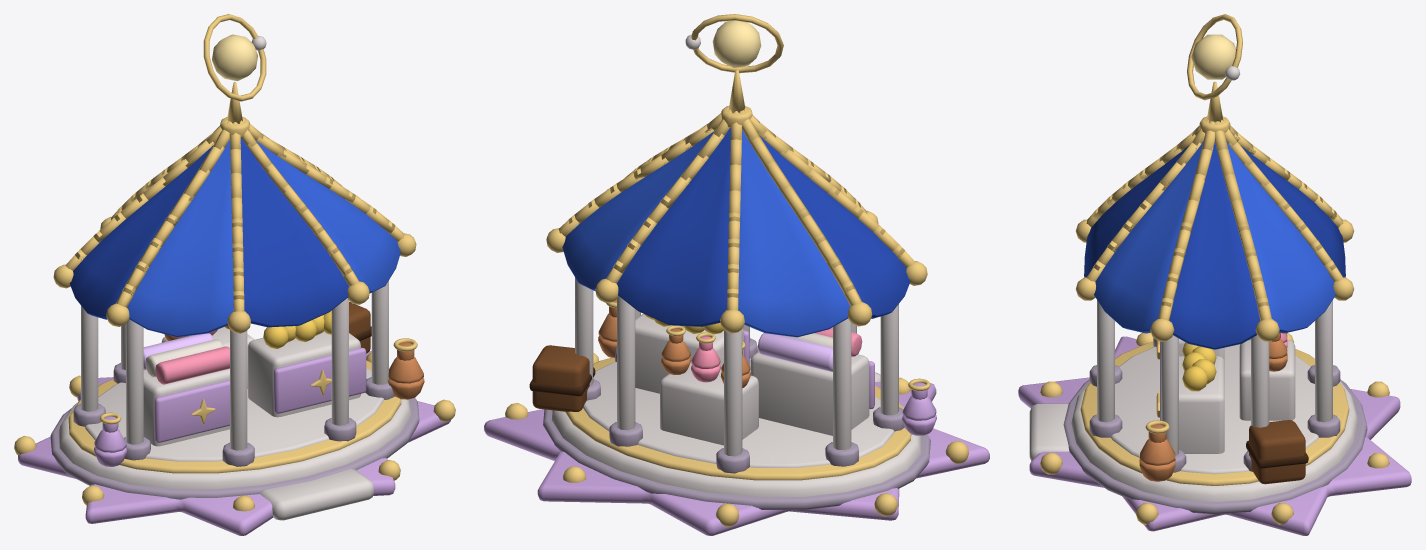
The model's file is Market.glb.
3 views of the same model, side by side, from view 1: azimuth 30°, elevation 25°; view 2: azimuth 150°, elevation 25°; view 3: azimuth 270°, elevation 25° (orthographic). The views are drawn at different scales.
Parts seen in each view (by area): view 1: Market; view 2: Market; view 3: Market.
Part boxes in pixels (bbox=[...]): Market: bbox=[14, 14, 455, 535]; Market: bbox=[484, 14, 989, 535]; Market: bbox=[1018, 14, 1411, 535].
Bounding box in the file's own units: 2.74 × 2.85 × 2.4.
